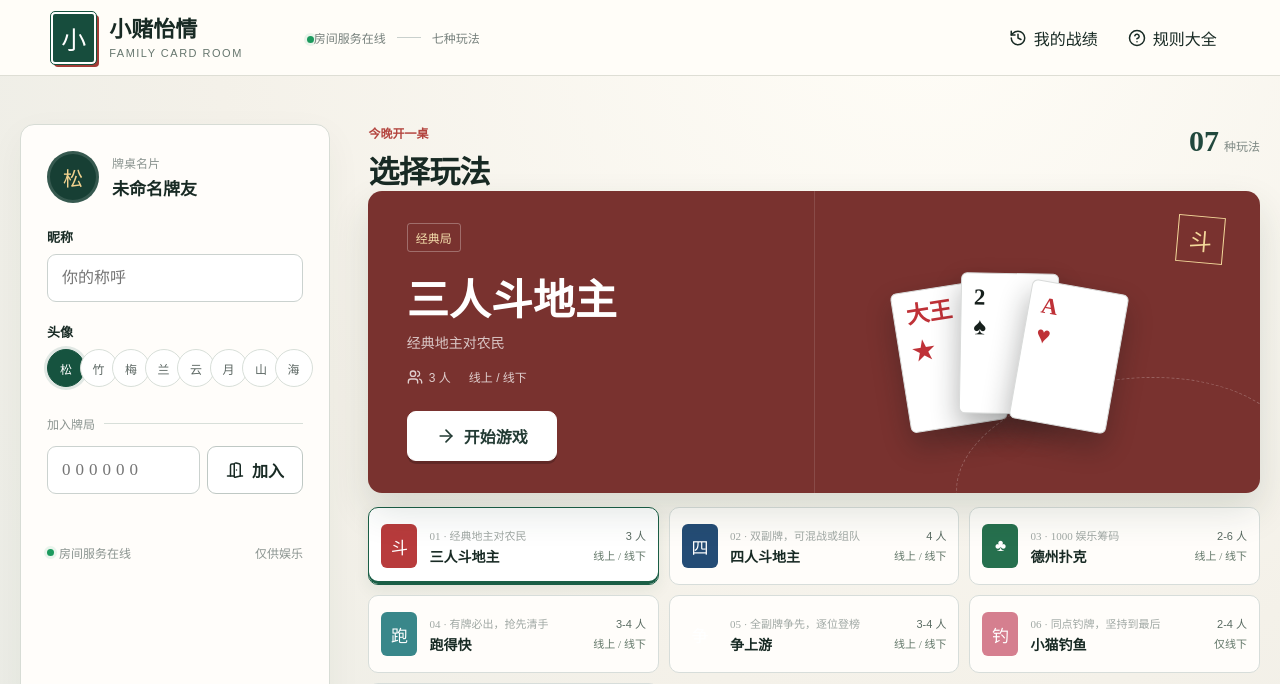
Test: 创建房间 › 断线时返回首页立即生效，不等待连接超时
Click the button "开始游戏": {"x": 482, "y": 436} [407,411,557,461]
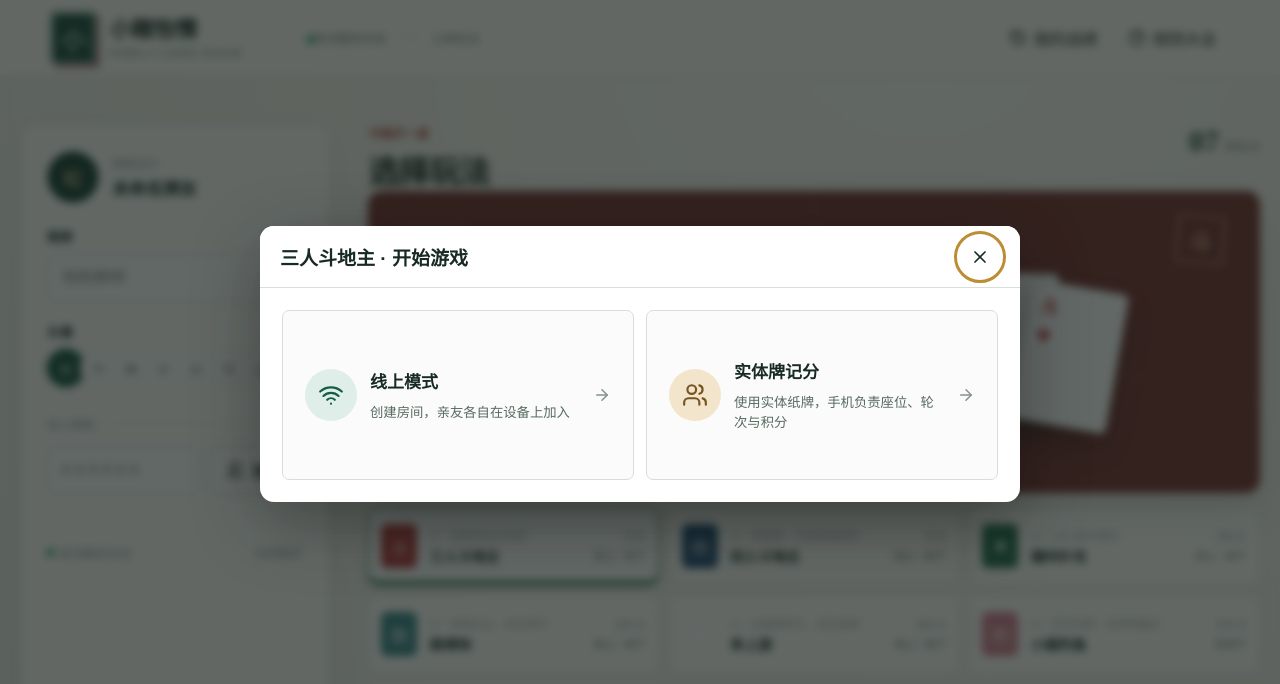
Click the button "线上模式 创建房间，亲友各自在设备上加入": {"x": 331, "y": 395} [282,310,634,480]
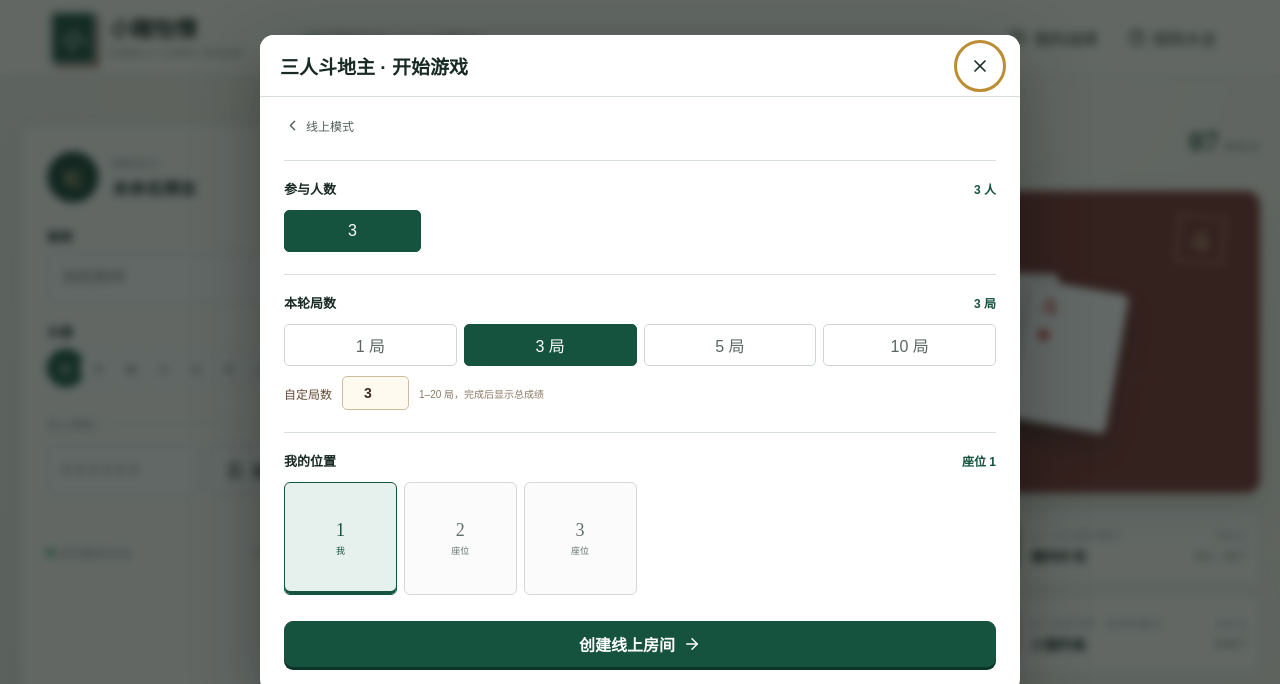
Click the button "创建线上房间": {"x": 640, "y": 644} [284,621,996,667]
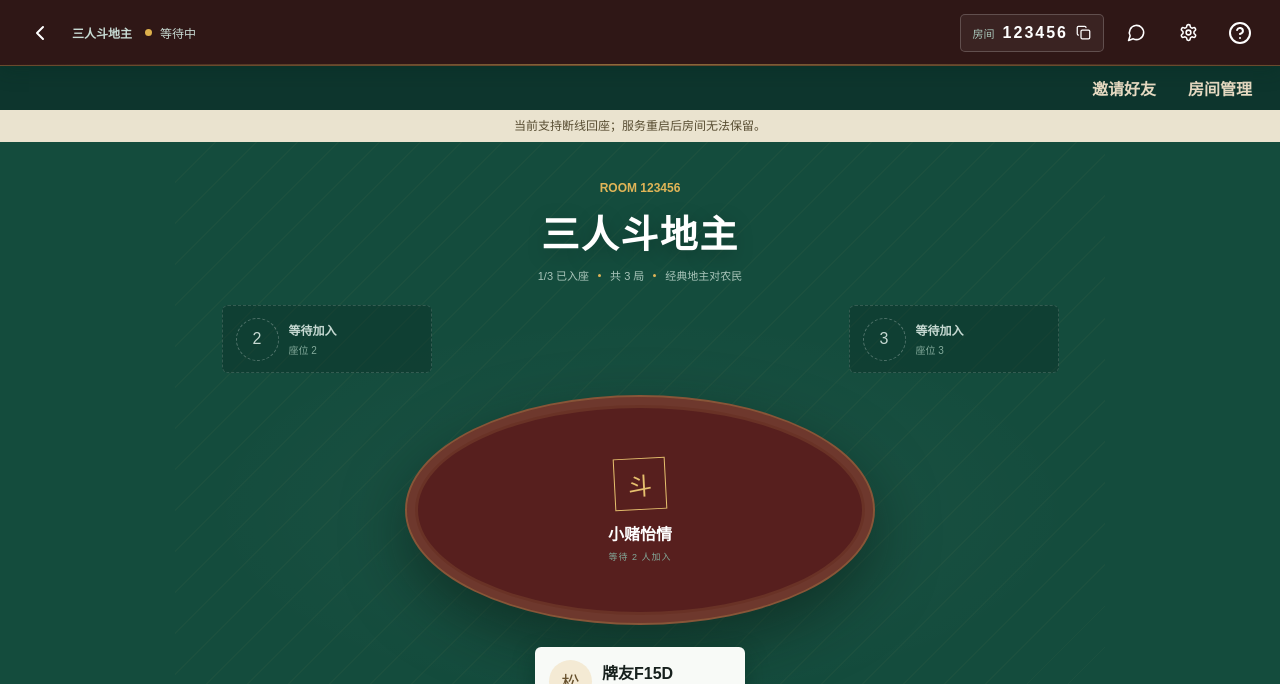
Click the button named "返回首页": {"x": 40, "y": 32} [20,12,60,52]
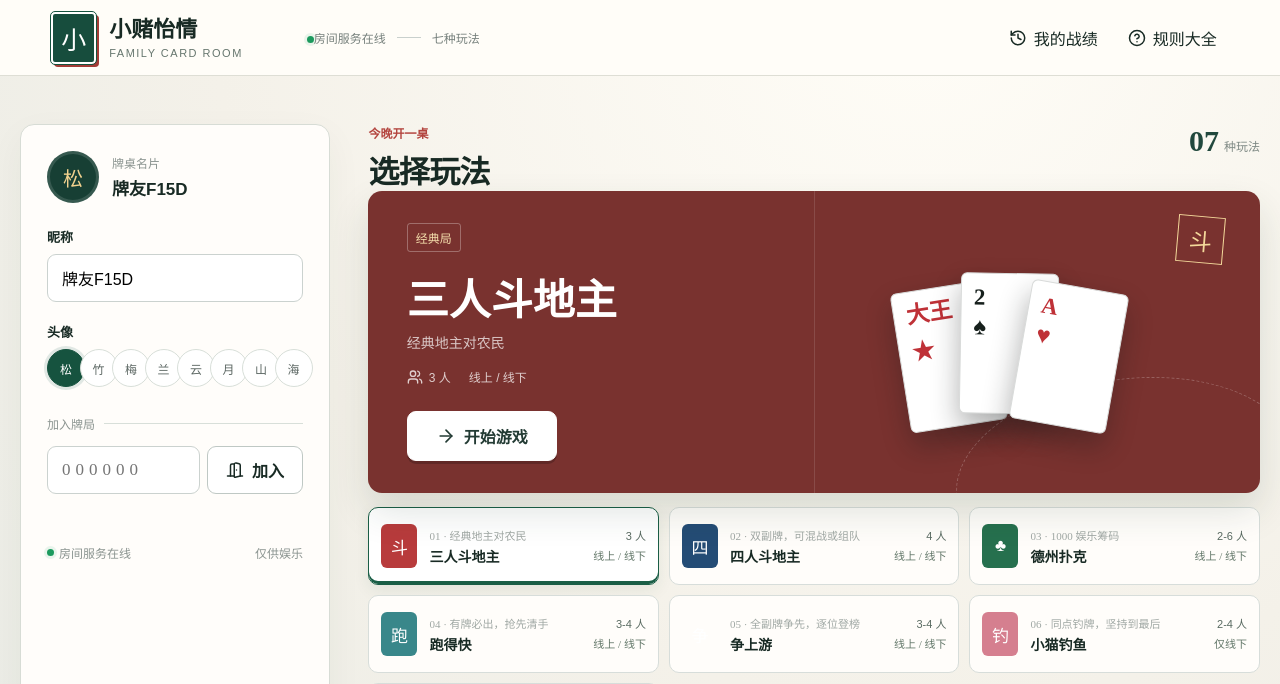
Check: the text "今晚开一桌" is shown, box [368,127,428,141]
